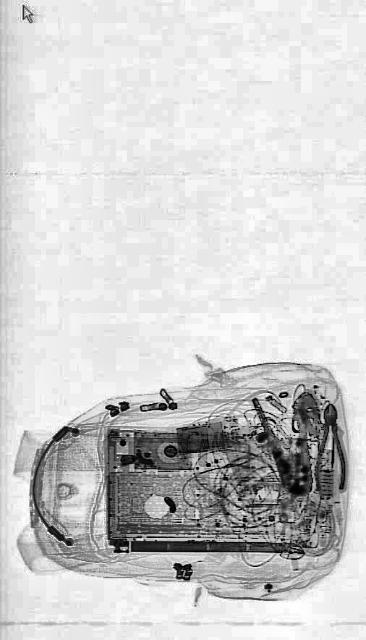Pliers: (251, 372, 318, 510), (315, 402, 345, 493)
